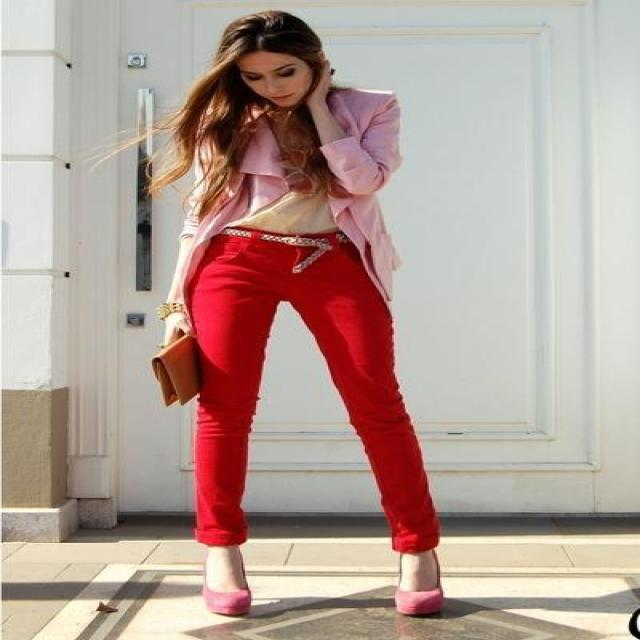bag: (152, 320, 200, 405)
jacket: (240, 91, 398, 242)
pants: (182, 226, 438, 549)
shirt: (226, 193, 340, 244)
shoe: (190, 576, 445, 625)
